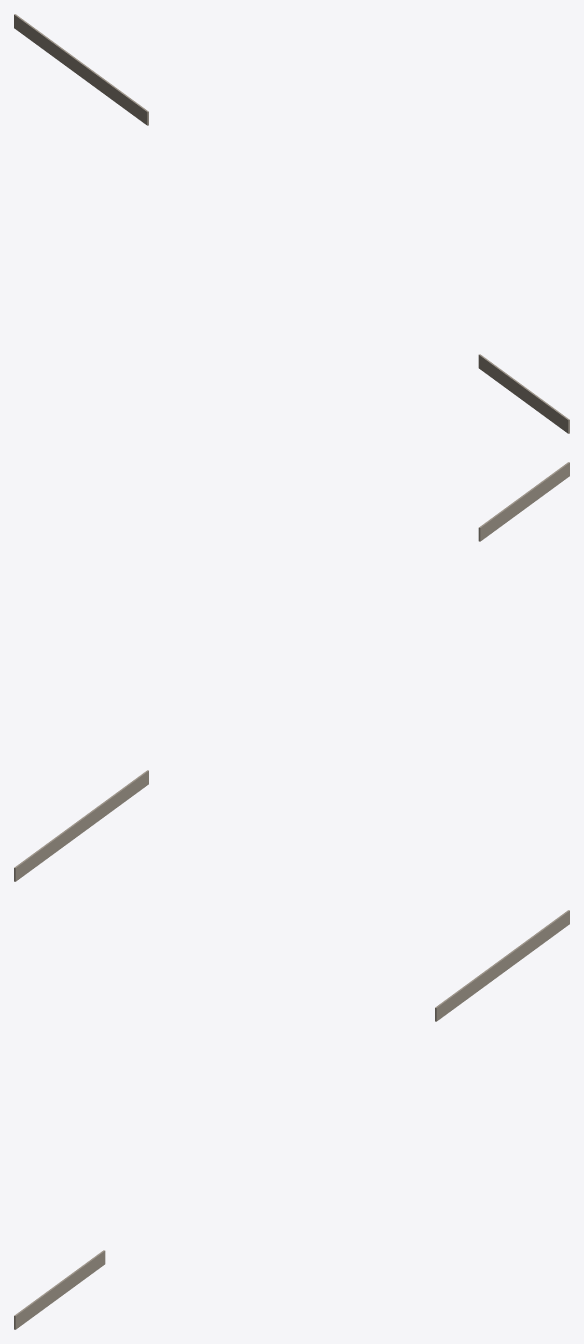
Rendered from SM_Skirting_Living_East_001.fbx.
The picture shows the model from 3 angles, top to bottom: view 1: azimuth 30°, elevation 25°; view 2: azimuth 150°, elevation 25°; view 3: azimuth 330°, elevation 25°; orthographic projection.
Parts seen in each view (by area): view 1: SM_Skirting_Living_East_001; view 2: SM_Skirting_Living_East_001; view 3: SM_Skirting_Living_East_001.
Boxes of the visible parts, <box> form: SM_Skirting_Living_East_001: <box>14,14,569,433</box>; SM_Skirting_Living_East_001: <box>14,462,569,881</box>; SM_Skirting_Living_East_001: <box>14,910,569,1329</box>.
Size of the model in its own units: 1.4 by 11 by 810.
